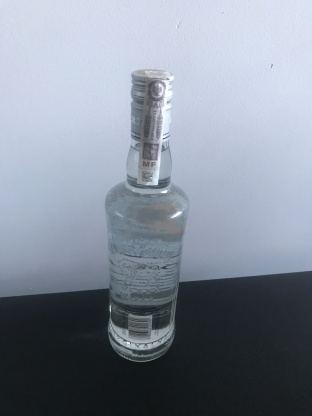nakretka: (127, 65, 175, 143)
